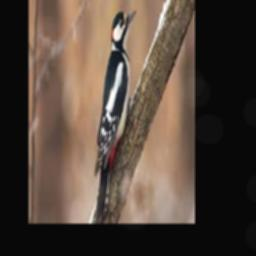Woodpecker: (95, 9, 136, 224)
